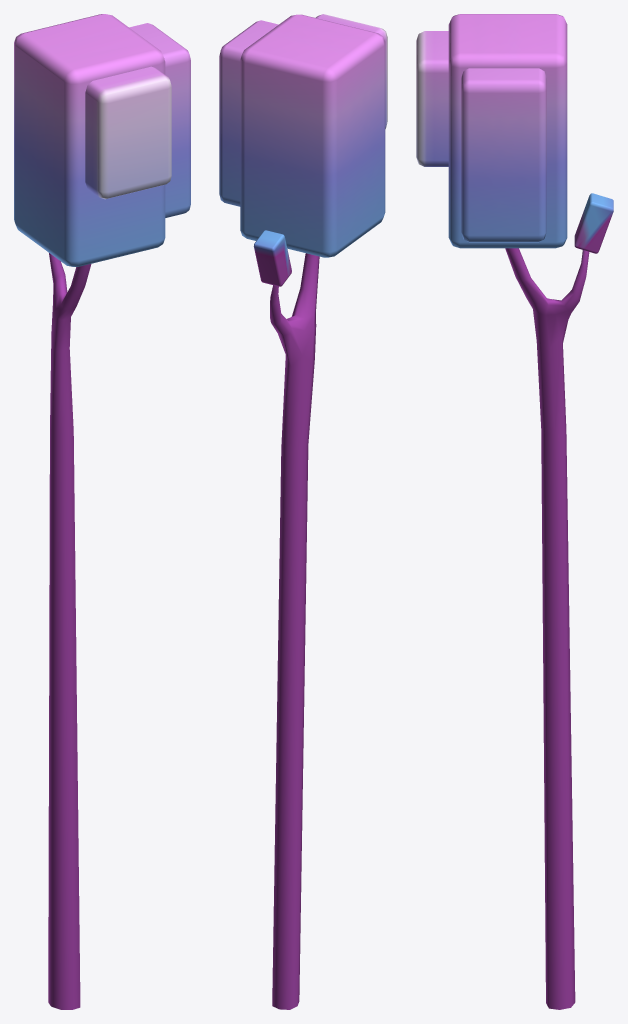
Rendered from Tree05.fbx.
3 renders of one model, left to right at view 1: azimuth 30°, elevation 25°; view 2: azimuth 150°, elevation 25°; view 3: azimuth 270°, elevation 25°, orthographic. The views are drawn at different scales.
Visible parts, largest first — view 1: Tree05; view 2: Tree05; view 3: Tree05.
Part boxes in pixels (bbox=[...]): Tree05: bbox=[14, 14, 190, 1009]; Tree05: bbox=[219, 14, 387, 1009]; Tree05: bbox=[416, 14, 613, 1009].
Bounding box in the file's own units: 674 × 4844 × 895.
